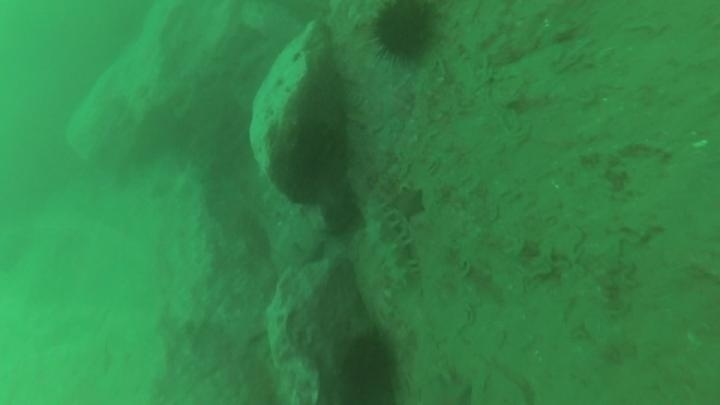echinus: (335, 326, 404, 403), (367, 1, 441, 66), (319, 193, 365, 239)
holothurian: (359, 195, 419, 293)
starfish: (387, 184, 429, 223)
